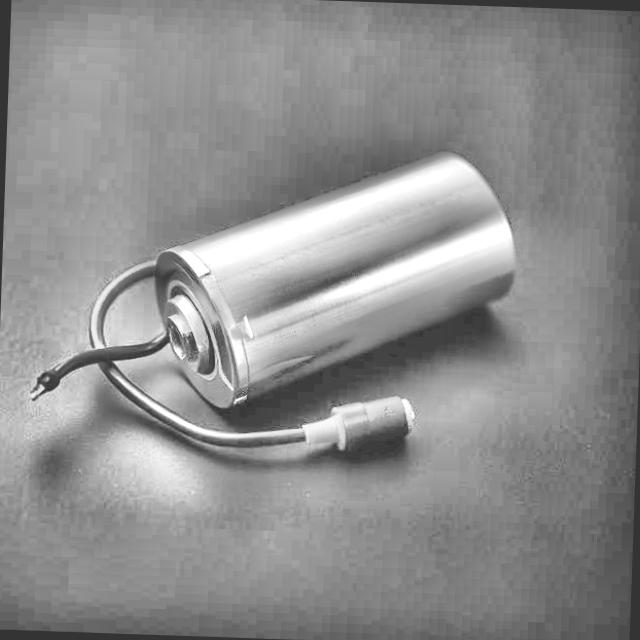Battery: (152, 144, 524, 404)
Cable: (20, 244, 434, 473)
